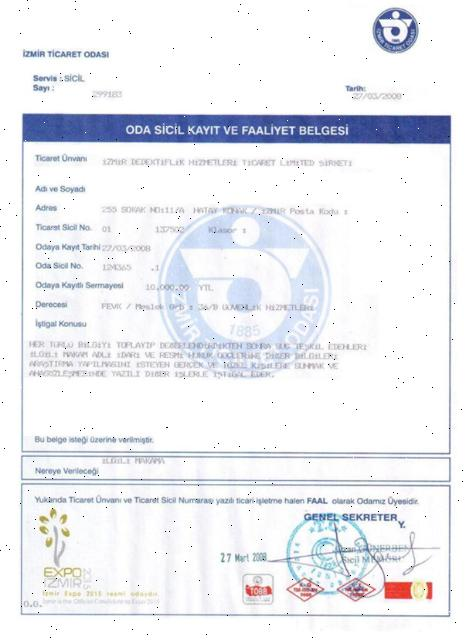stamp: (282, 512, 368, 600)
